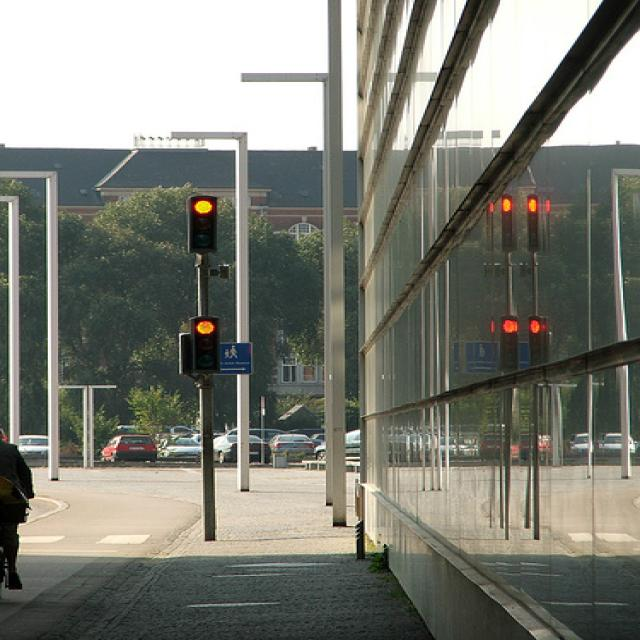Vehicle: (106, 419, 577, 471), (100, 435, 158, 464), (313, 427, 361, 461), (213, 436, 271, 464), (596, 431, 637, 457), (16, 435, 48, 468), (268, 434, 315, 455), (160, 438, 201, 458), (479, 432, 505, 463), (225, 429, 290, 441), (570, 432, 588, 458), (190, 434, 222, 444), (310, 433, 326, 446), (0, 429, 9, 444)
